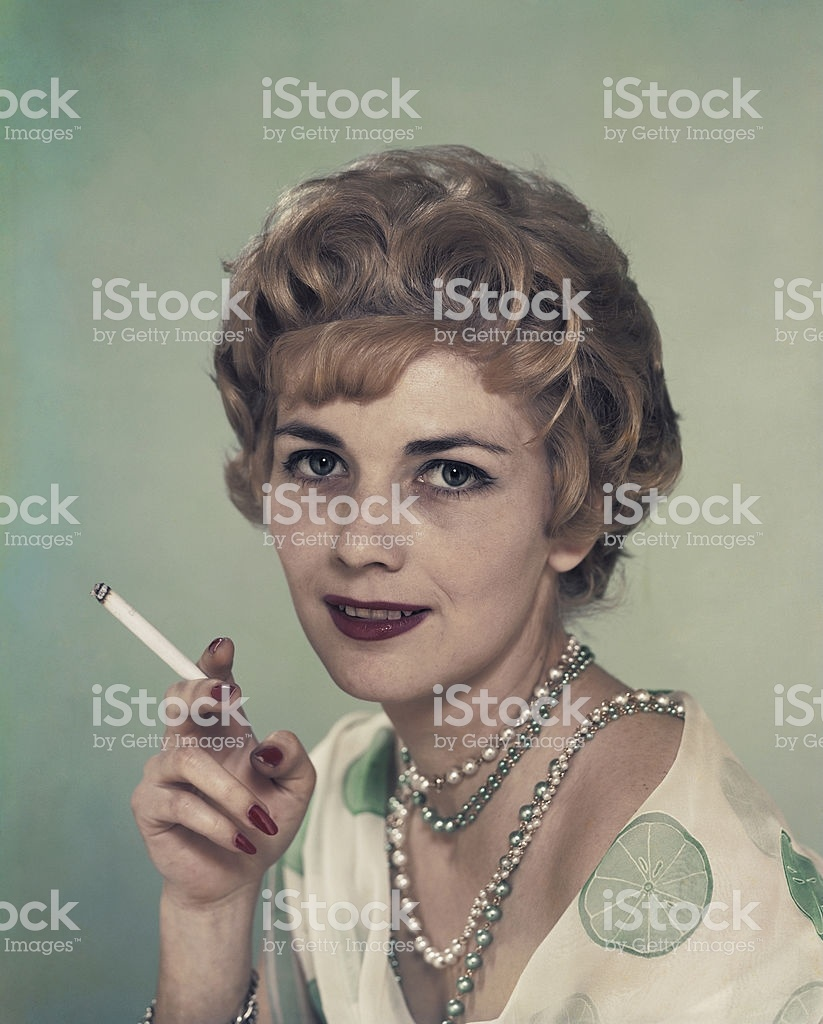sigaretta: (97, 578, 229, 700)
